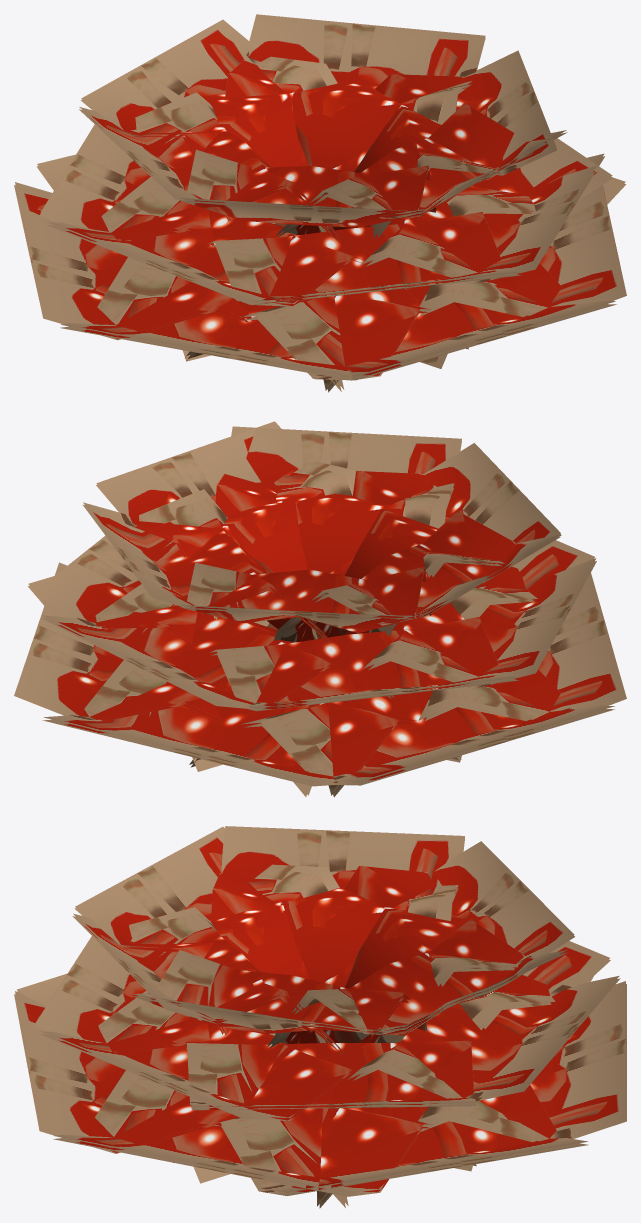
File: Plant_017.fbx
The picture shows the model from 3 angles, top to bottom: view 1: azimuth 30°, elevation 25°; view 2: azimuth 150°, elevation 25°; view 3: azimuth 270°, elevation 25°; orthographic projection. The views are drawn at different scales.
Parts seen in each view (by area): view 1: Plant_017; view 2: Plant_017; view 3: Plant_017.
Part boxes in pixels (box(x1,y1,x2,y2)): Plant_017: box(14, 14, 626, 392); Plant_017: box(14, 421, 626, 797); Plant_017: box(14, 826, 626, 1208).
Bounding box in the file's own units: 294 × 103 × 264.
